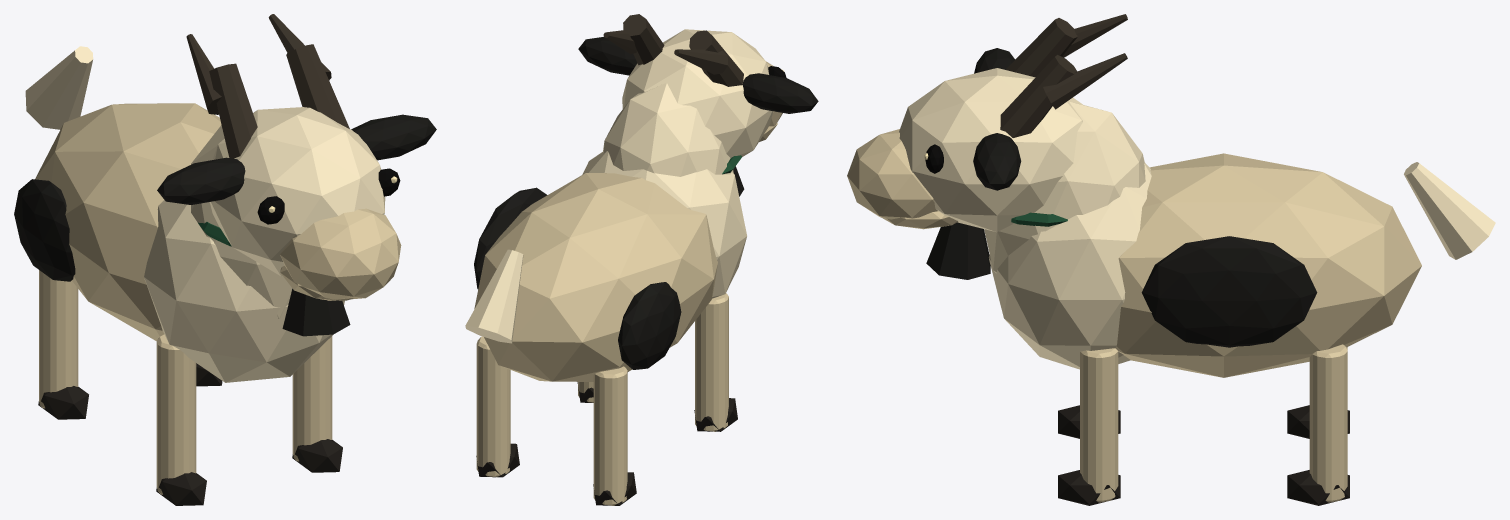
The model's file is Goat.glb.
3 views of the same model, side by side, from view 1: azimuth 30°, elevation 25°; view 2: azimuth 150°, elevation 25°; view 3: azimuth 270°, elevation 25° (orthographic). The views are drawn at different scales.
Parts seen in each view (by area): view 1: Goat_Body, Goat_Chest, Goat_Head, Goat_Muzzle, Goat_Leg_FR, Goat_CoatPatches, Goat_Leg_RR, Goat_Horn_R, Goat_Leg_FL, Goat_Tail, Goat_Horn_L, Goat_Ear_R (+7 smaller); view 2: Goat_Body, Goat_Head, Goat_Neck, Goat_CoatPatches, Goat_Chest, Goat_Leg_RR, Goat_Leg_FR, Goat_Leg_RL, Goat_Tail, Goat_Ear_R, Goat_Horn_R, Goat_Horn_L (+4 smaller); view 3: Goat_Body, Goat_Head, Goat_Chest, Goat_CoatPatches, Goat_Neck, Goat_Leg_RL, Goat_Leg_FL, Goat_Muzzle, Goat_Tail, Goat_Horn_L, Goat_Beard, Goat_Horn_R (+6 smaller).
Part boxes in pixels (left/top/right/bottom): Goat_Body: left=35, top=103, right=221, bottom=340; Goat_Chest: left=144, top=200, right=344, bottom=382; Goat_Head: left=209, top=107, right=385, bottom=276; Goat_Muzzle: left=280, top=208, right=401, bottom=300; Goat_Leg_FR: left=156, top=334, right=196, bottom=494; Goat_CoatPatches: left=14, top=179, right=75, bottom=281; Goat_Leg_RR: left=39, top=270, right=78, bottom=408; Goat_Horn_R: left=186, top=34, right=257, bottom=158; Goat_Leg_FL: left=292, top=336, right=332, bottom=461; Goat_Tail: left=25, top=46, right=93, bottom=129; Goat_Horn_L: left=268, top=14, right=349, bottom=128; Goat_Ear_R: left=157, top=157, right=245, bottom=204; Goat_Body: left=474, top=173, right=717, bottom=381; Goat_Head: left=622, top=29, right=773, bottom=157; Goat_Neck: left=603, top=83, right=733, bottom=176; Goat_CoatPatches: left=474, top=187, right=681, bottom=369; Goat_Chest: left=582, top=151, right=746, bottom=298; Goat_Leg_RR: left=593, top=366, right=627, bottom=505; Goat_Leg_FR: left=695, top=293, right=728, bottom=431; Goat_Leg_RL: left=476, top=336, right=510, bottom=477; Goat_Tail: left=465, top=249, right=523, bottom=343; Goat_Ear_R: left=742, top=73, right=818, bottom=113; Goat_Horn_R: left=674, top=30, right=743, bottom=86; Goat_Horn_L: left=603, top=14, right=664, bottom=65; Goat_Body: left=1115, top=153, right=1421, bottom=377; Goat_Head: left=899, top=68, right=1082, bottom=232; Goat_Chest: left=988, top=162, right=1151, bottom=369; Goat_CoatPatches: left=1141, top=236, right=1317, bottom=347; Goat_Neck: left=984, top=101, right=1145, bottom=273; Goat_Leg_RL: left=1309, top=344, right=1347, bottom=502; Goat_Leg_FL: left=1080, top=348, right=1118, bottom=502; Goat_Muzzle: left=847, top=129, right=937, bottom=219; Goat_Tail: left=1404, top=162, right=1495, bottom=259; Goat_Horn_L: left=1000, top=53, right=1127, bottom=137; Goat_Beard: left=926, top=222, right=990, bottom=279; Goat_Horn_R: left=1005, top=14, right=1127, bottom=77.
Size of the model in its own units: 1.08 by 1.71 by 2.29.
